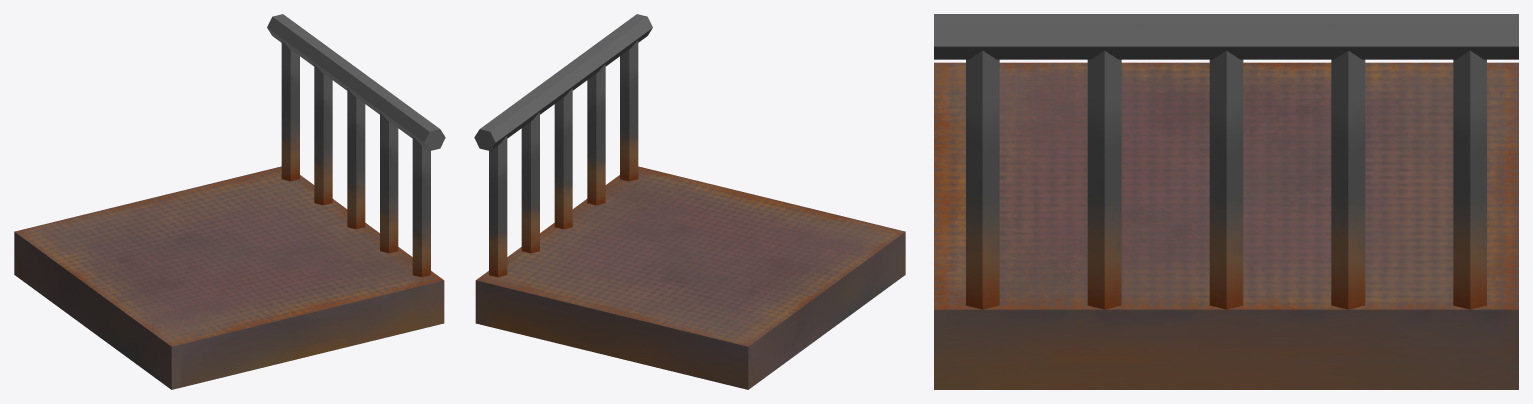
The model's file is catwalk.fbx.
3 renders of one model, left to right at view 1: azimuth 30°, elevation 25°; view 2: azimuth 150°, elevation 25°; view 3: azimuth 270°, elevation 25°, orthographic. The views are drawn at different scales.
Visible parts, largest first — view 1: polySurface1, polySurface2; view 2: polySurface1, polySurface2; view 3: polySurface1, polySurface2.
Boxes of the visible parts, left/top/right/bottom form: polySurface1: left=14, top=166, right=444, bottom=389; polySurface2: left=267, top=14, right=445, bottom=277; polySurface1: left=475, top=166, right=905, bottom=389; polySurface2: left=474, top=14, right=652, bottom=277; polySurface1: left=934, top=62, right=1518, bottom=389; polySurface2: left=934, top=14, right=1518, bottom=309.
Size of the model in its own units: 24.13 by 16.43 by 24.
